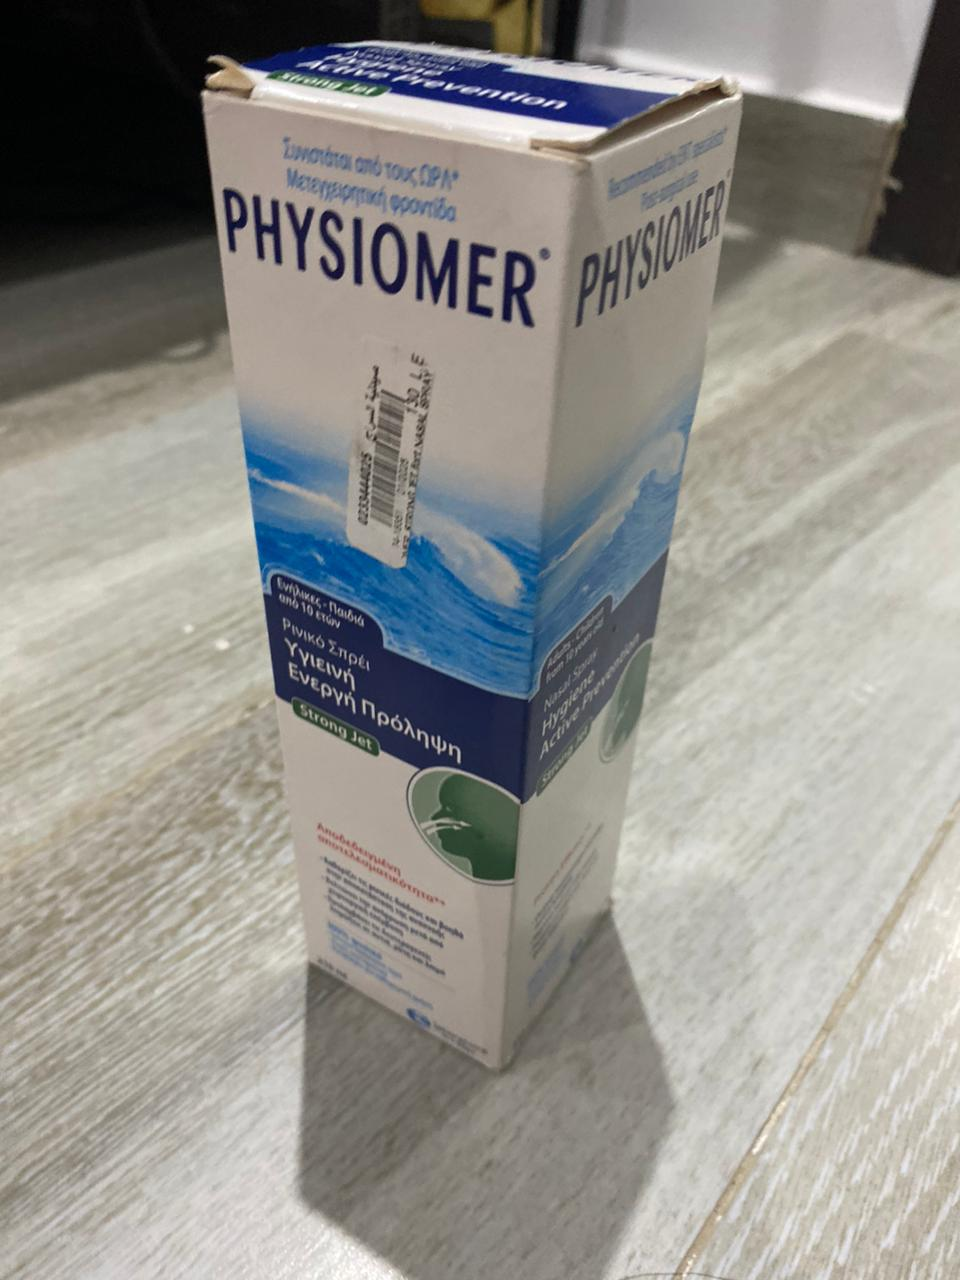Physiomer: (197, 30, 753, 1081)
